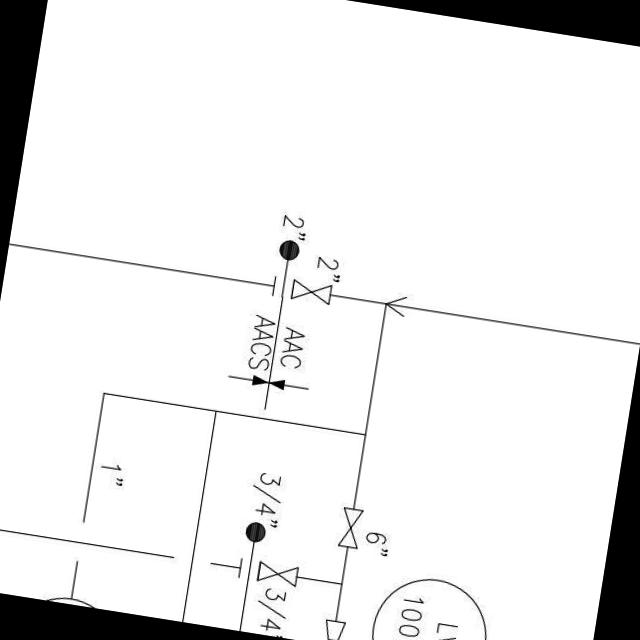GV: (284, 274, 336, 308), (250, 558, 302, 592), (334, 502, 364, 552)
SP: (320, 613, 348, 640)
